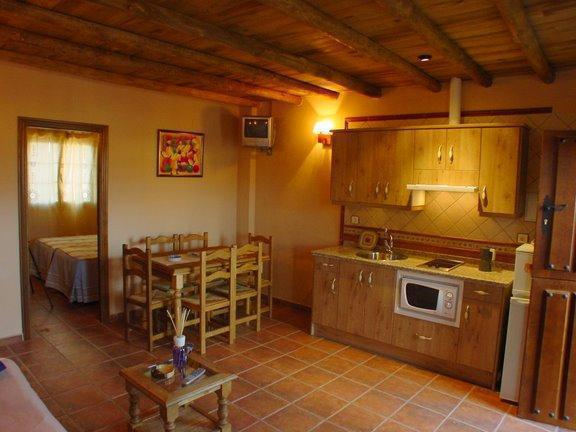Cama: (38, 235, 99, 301)
Lavaplatos: (351, 220, 409, 272)
Puerta: (520, 129, 570, 419)
